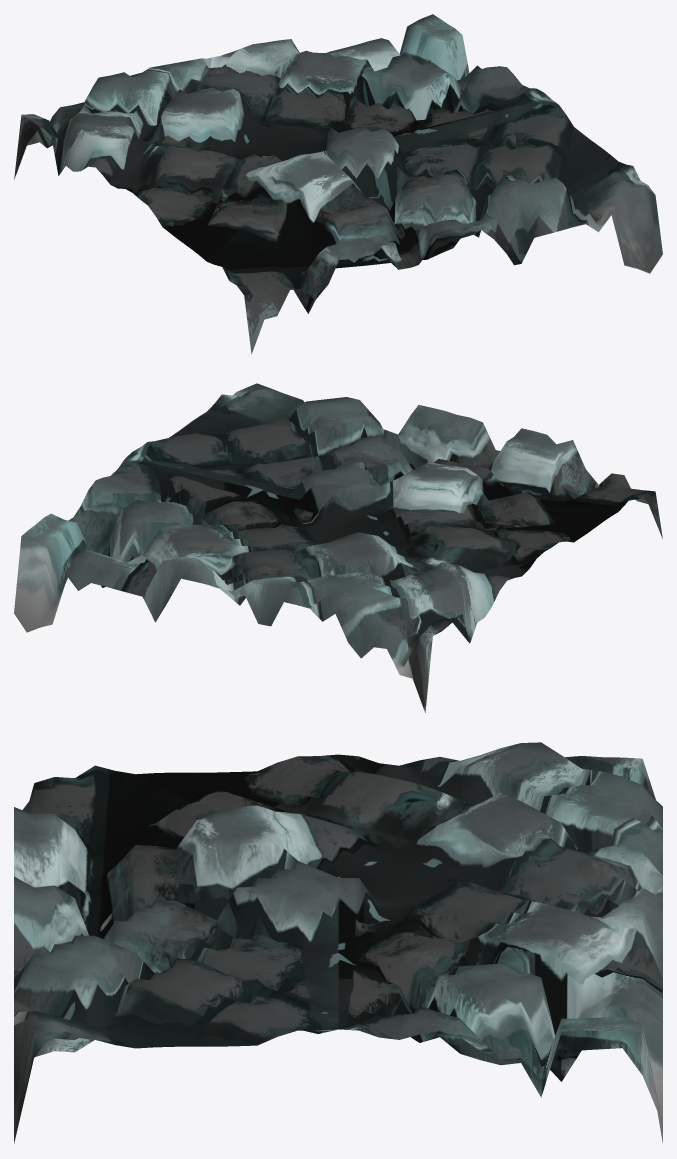
The model's file is IceVolume.fbx.
3 views of the same model, one above another, from view 1: azimuth 30°, elevation 25°; view 2: azimuth 150°, elevation 25°; view 3: azimuth 270°, elevation 25° (orthographic). The views are drawn at different scales.
Parts seen in each view (by area): view 1: IceCubes; view 2: IceCubes; view 3: IceCubes.
Part boxes in pixels (box(x1,y1,x2,y2)): IceCubes: box(14, 14, 662, 353); IceCubes: box(14, 383, 662, 712); IceCubes: box(14, 742, 662, 1143).
Size of the model in its own units: 2 by 0.5124 by 2.
